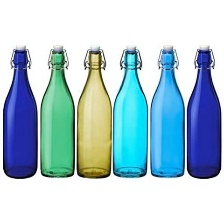bottle: (110, 44, 150, 181), (0, 42, 38, 181), (185, 42, 222, 183), (150, 41, 187, 180), (75, 43, 112, 181), (38, 42, 75, 179)
